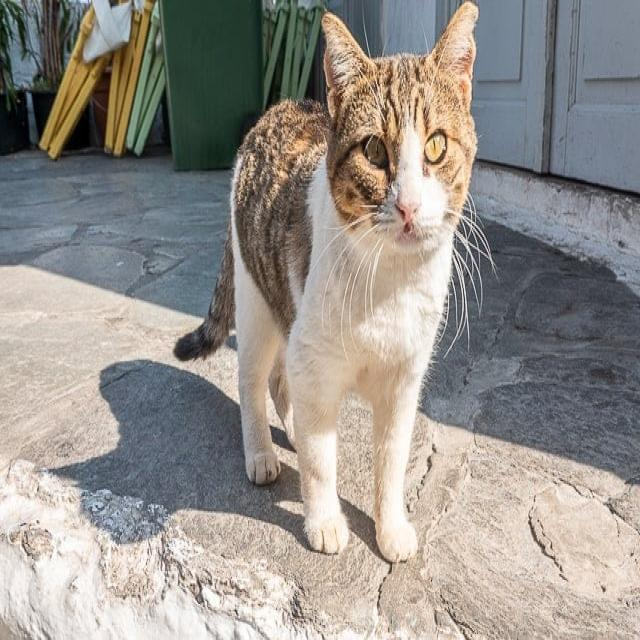cat: (175, 4, 478, 561)
